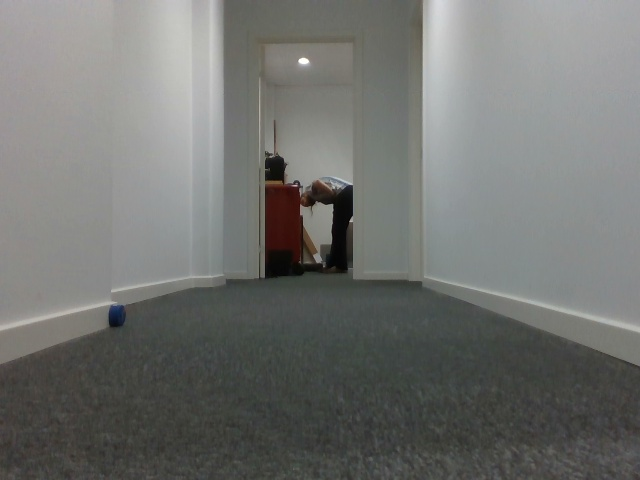alfa: (107, 301, 127, 329)
